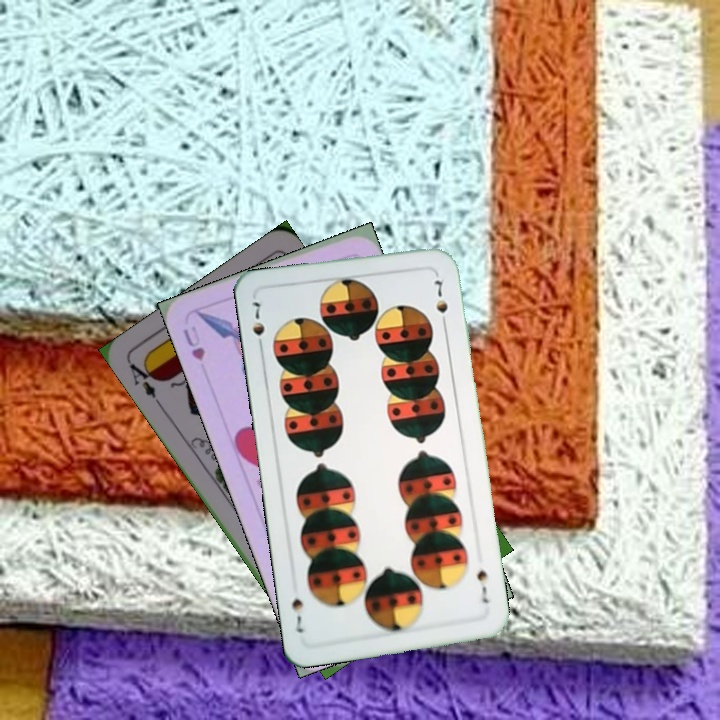EA: (124, 357, 165, 409)
HU: (178, 321, 208, 364)
S7: (248, 298, 268, 354), (472, 562, 491, 606)
